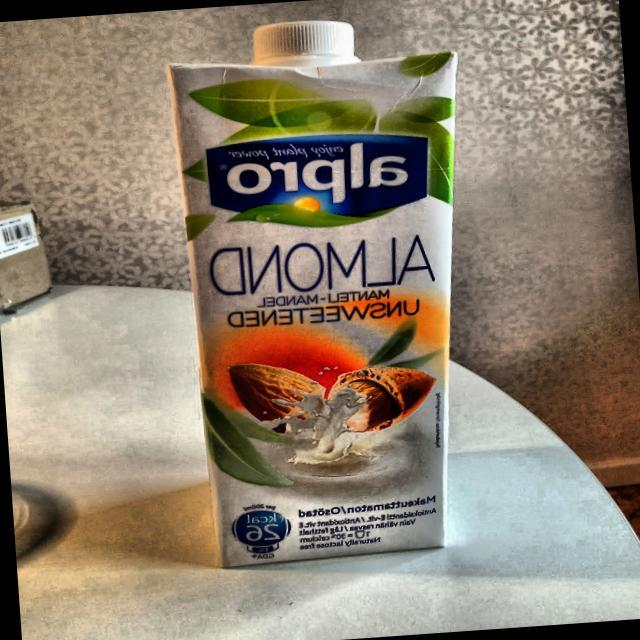cardboard: (167, 36, 493, 568)
